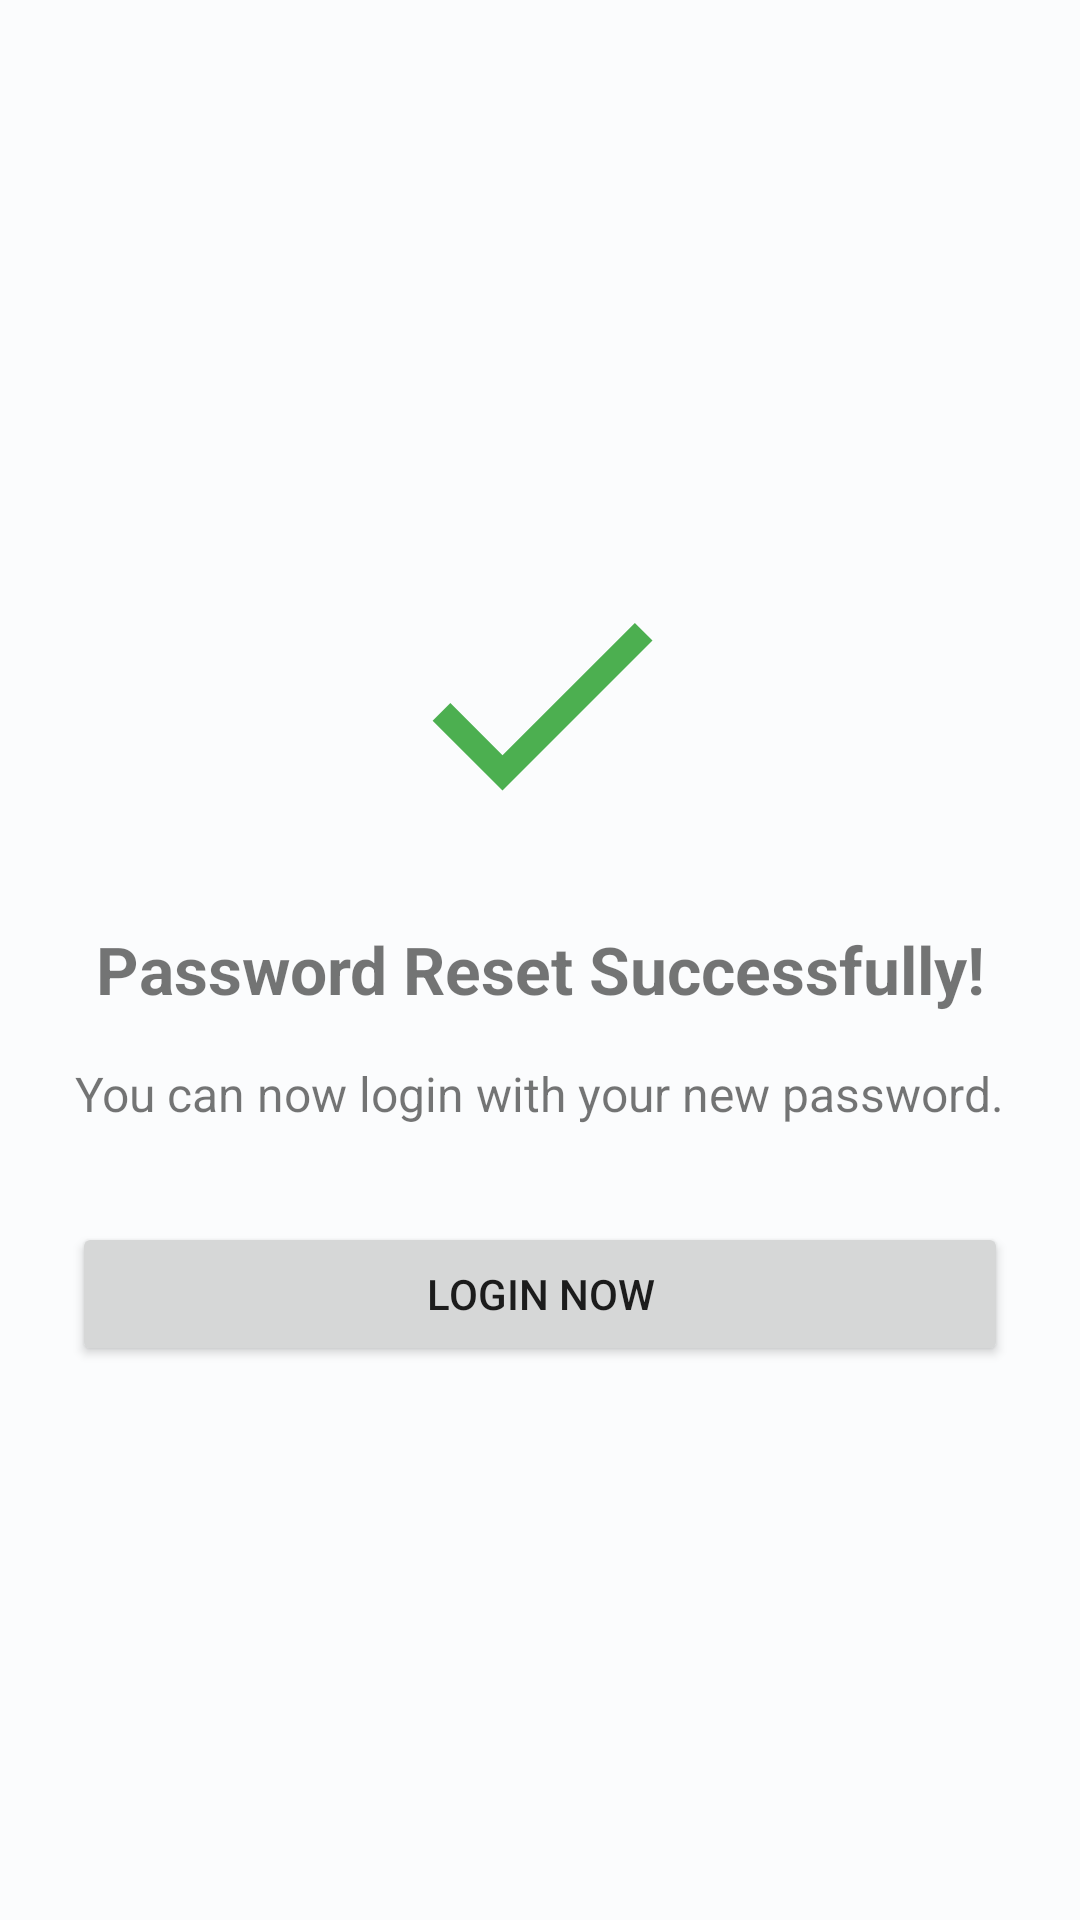

Where to tap for icons on this 1080x1920 app screen, as [x,y]:
check: [543,707]
